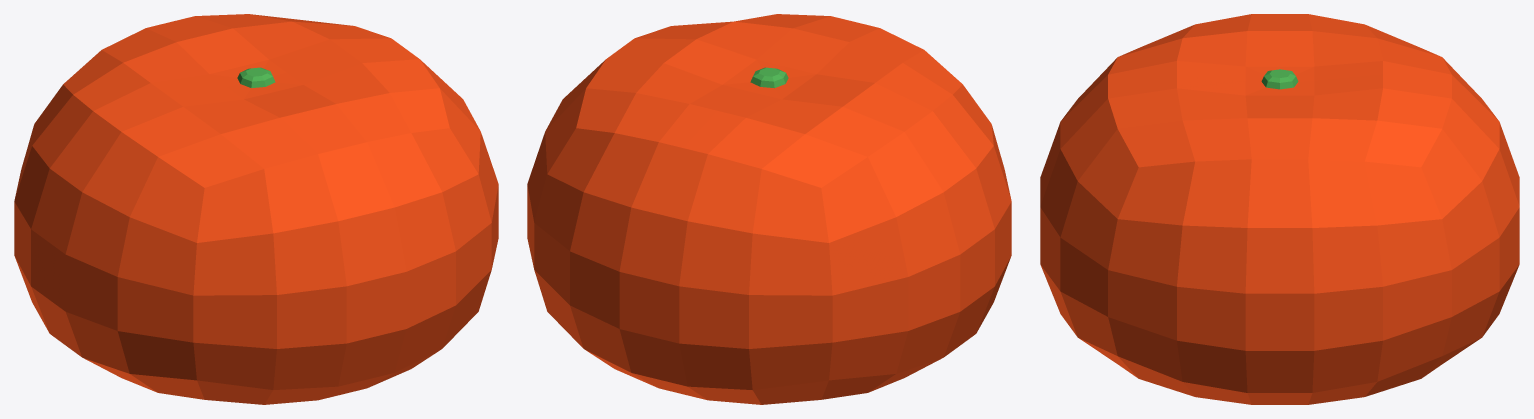
File: Tangerine.glb
3 views of the same model, side by side, from view 1: azimuth 30°, elevation 25°; view 2: azimuth 150°, elevation 25°; view 3: azimuth 270°, elevation 25° (orthographic).
Visible parts, largest first — view 1: Roundcube.007_Roundcube.009; view 2: Roundcube.007_Roundcube.009; view 3: Roundcube.007_Roundcube.009.
Part boxes in pixels (left/top/right/bottom): Roundcube.007_Roundcube.009: left=14, top=14, right=498, bottom=404; Roundcube.007_Roundcube.009: left=527, top=14, right=1011, bottom=404; Roundcube.007_Roundcube.009: left=1040, top=14, right=1519, bottom=404.
Size of the model in its own units: 9.8 by 5.94 by 9.8.
